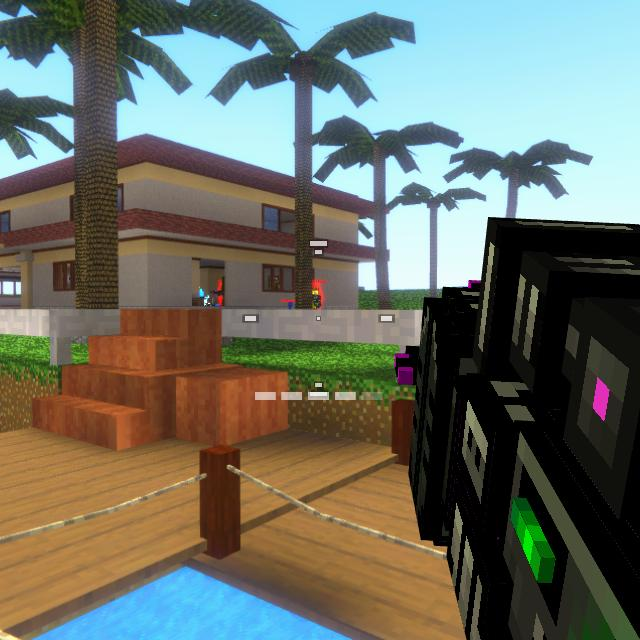Enemy: (312, 285, 321, 309), (217, 279, 222, 306)
